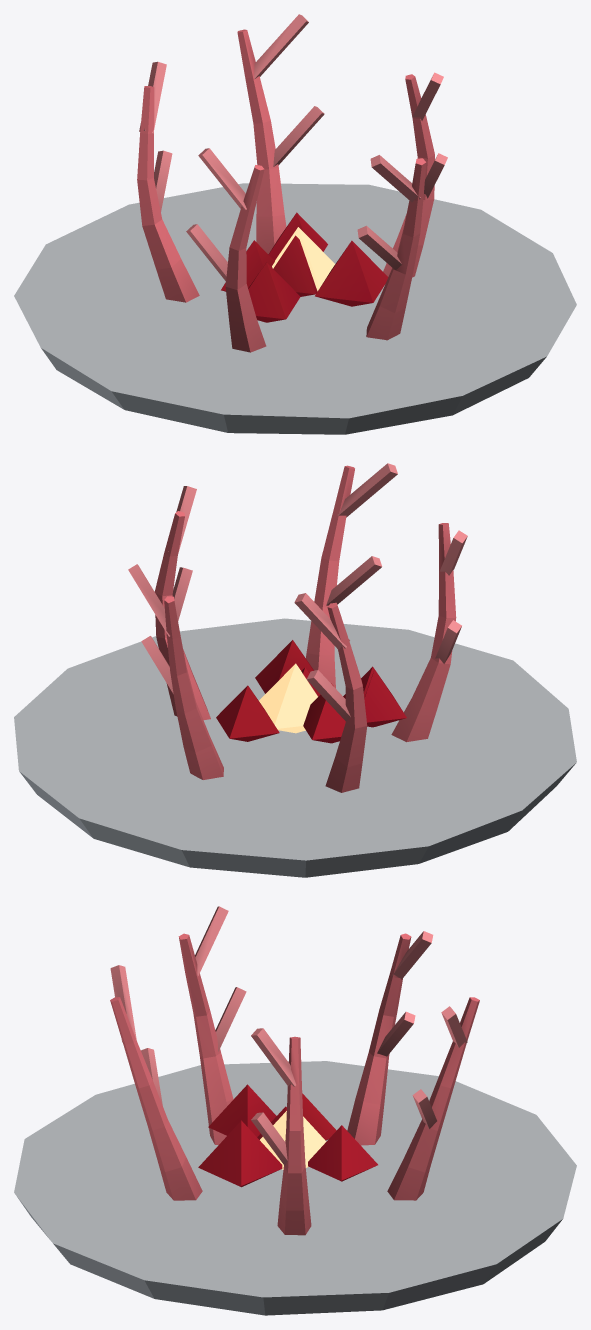
The picture shows the model from 3 angles, top to bottom: view 1: azimuth 30°, elevation 25°; view 2: azimuth 150°, elevation 25°; view 3: azimuth 270°, elevation 25°; orthographic projection.
Visible parts, largest first — view 1: base; view 2: base; view 3: base.
Part boxes in pixels (x1,y1,x2,y2): base: [14, 14, 576, 434]; base: [14, 463, 576, 877]; base: [14, 906, 576, 1315].
Size of the model in its own units: 0.592 by 0.3176 by 0.5956.
